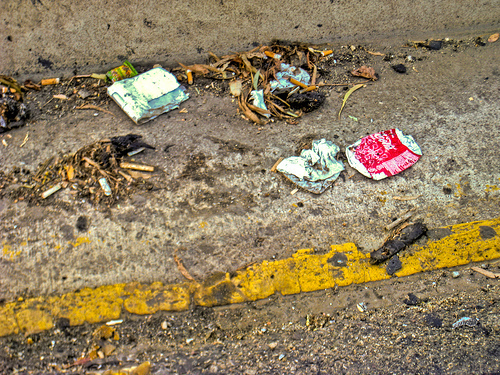litter: (105, 65, 185, 123), (348, 126, 420, 179), (278, 137, 343, 194), (251, 88, 271, 114), (288, 77, 312, 89), (40, 75, 60, 88), (184, 66, 195, 86), (260, 51, 284, 59), (318, 50, 333, 56)
